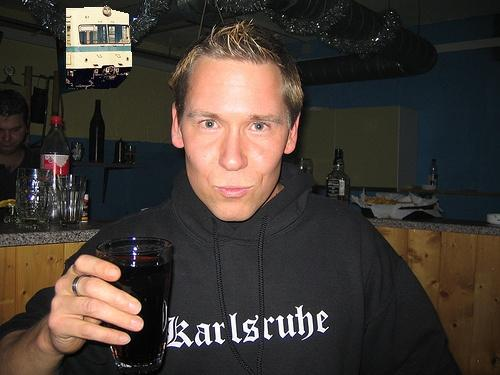tampered: (67, 6, 132, 89)
